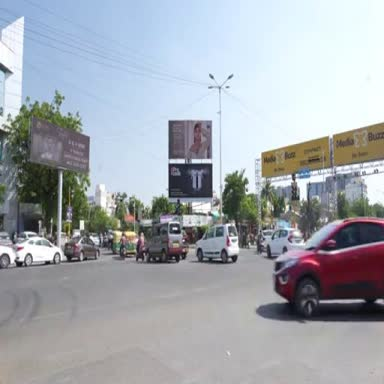Car: (273, 218, 383, 316), (195, 224, 239, 263), (146, 222, 182, 262), (14, 237, 62, 266), (265, 229, 305, 258), (64, 237, 99, 262), (0, 246, 15, 268), (261, 230, 273, 251), (17, 231, 38, 242), (0, 232, 13, 247), (182, 230, 188, 260), (89, 233, 100, 247)
